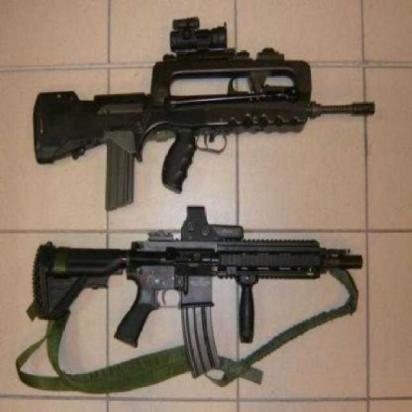Gun: (37, 23, 399, 210)
